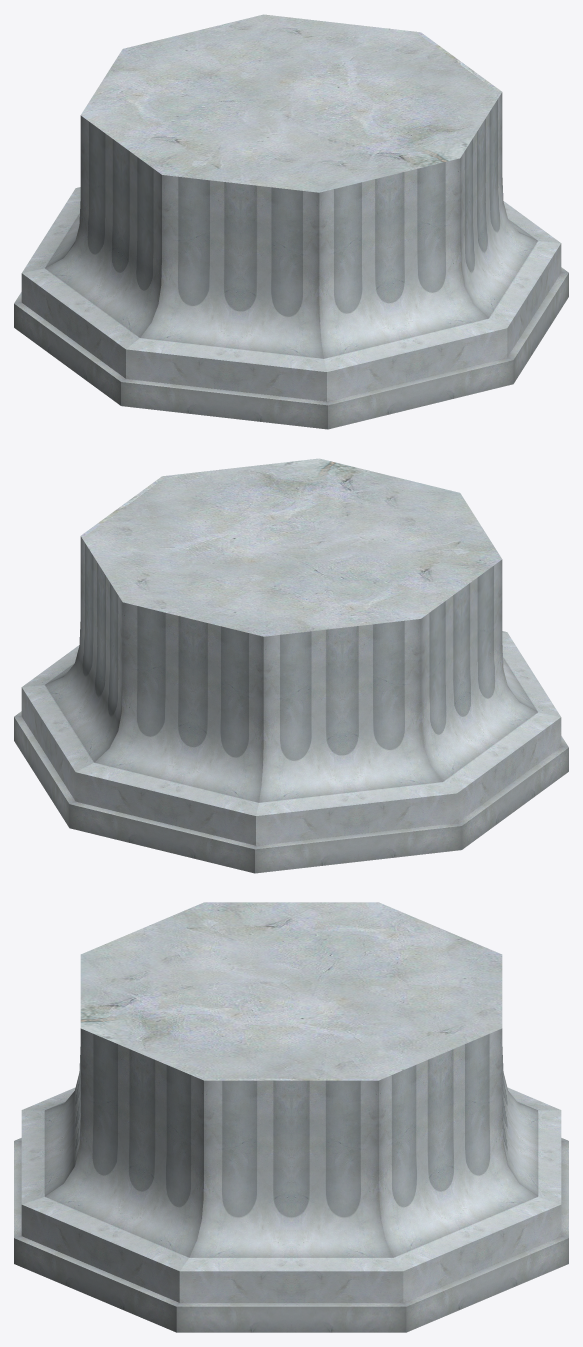
The model's file is GaintColumn1.fbx.
The picture shows the model from 3 angles, top to bottom: view 1: azimuth 30°, elevation 25°; view 2: azimuth 150°, elevation 25°; view 3: azimuth 270°, elevation 25°; orthographic projection. The views are drawn at different scales.
Visible parts, largest first — view 1: GiantColumn1; view 2: GiantColumn1; view 3: GiantColumn1.
Boxes of the visible parts, <box> form: GiantColumn1: <box>14,14,568,429</box>; GiantColumn1: <box>14,458,568,873</box>; GiantColumn1: <box>14,902,568,1332</box>.
Size of the model in its own units: 8.99 by 4 by 8.99.
